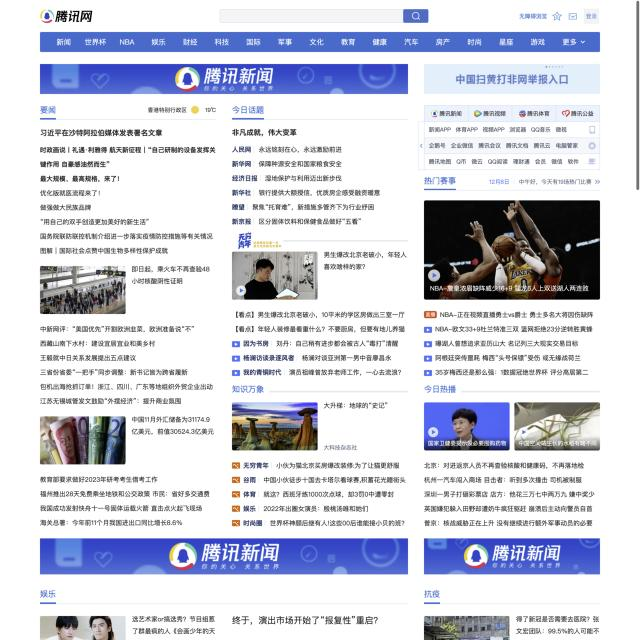content: (39, 98, 410, 533)
input: (219, 8, 428, 24)
logo: (38, 6, 96, 25)
navigation: (39, 31, 600, 52)
